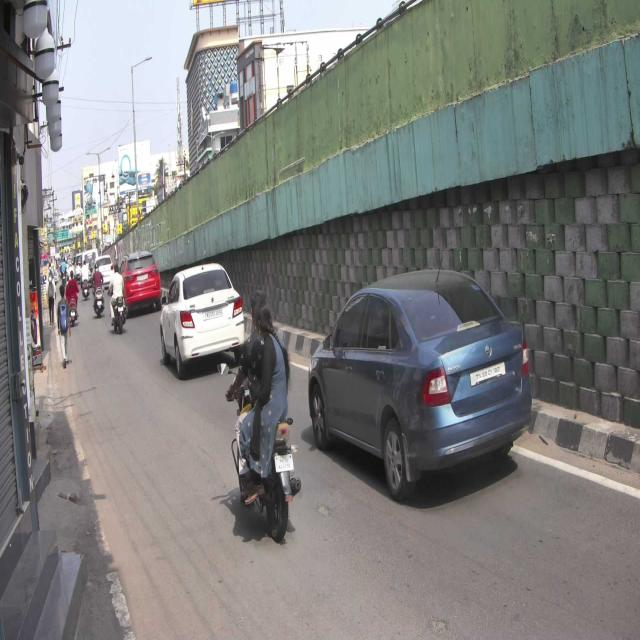double_rider: (224, 287, 300, 544)
